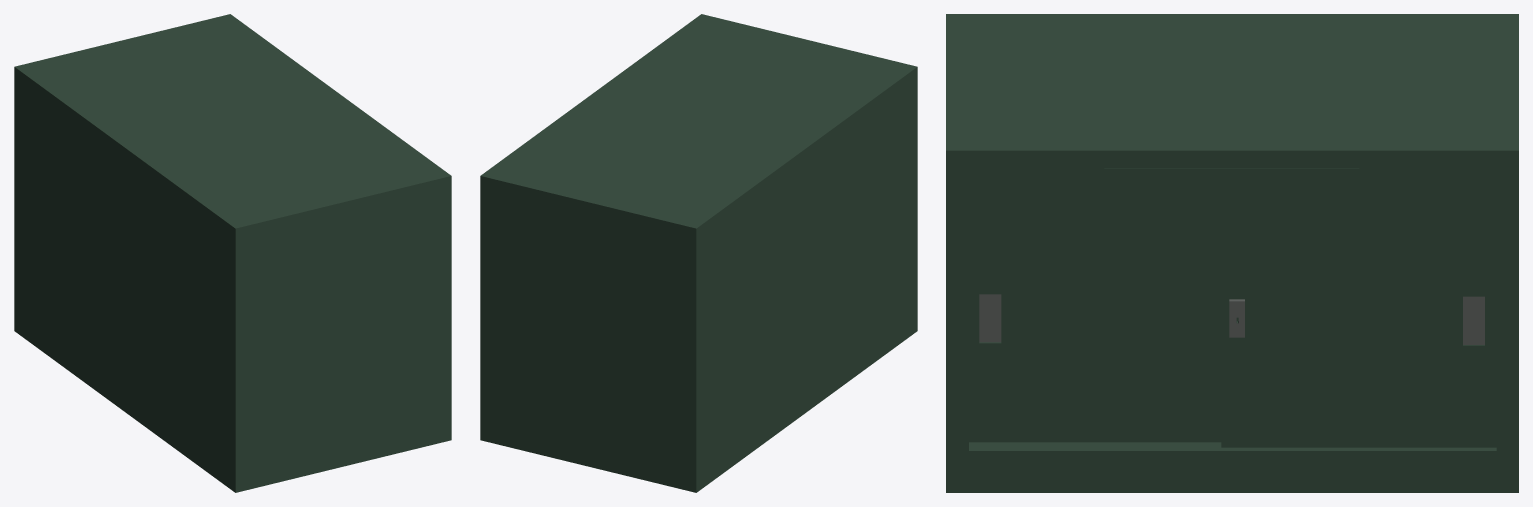
File: tana_rokka-_mimura.fbx
3 views of the same model, side by side, from view 1: azimuth 30°, elevation 25°; view 2: azimuth 150°, elevation 25°; view 3: azimuth 270°, elevation 25° (orthographic). The views are drawn at different scales.
Parts seen in each view (by area): view 1: polySurface1; view 2: polySurface1; view 3: polySurface1.
Part boxes in pixels (x1,y1,x2,y2): polySurface1: (14,14,451,492); polySurface1: (480,14,917,492); polySurface1: (946,14,1518,492).
Size of the model in its own units: 2.76 by 3.22 by 4.89.
